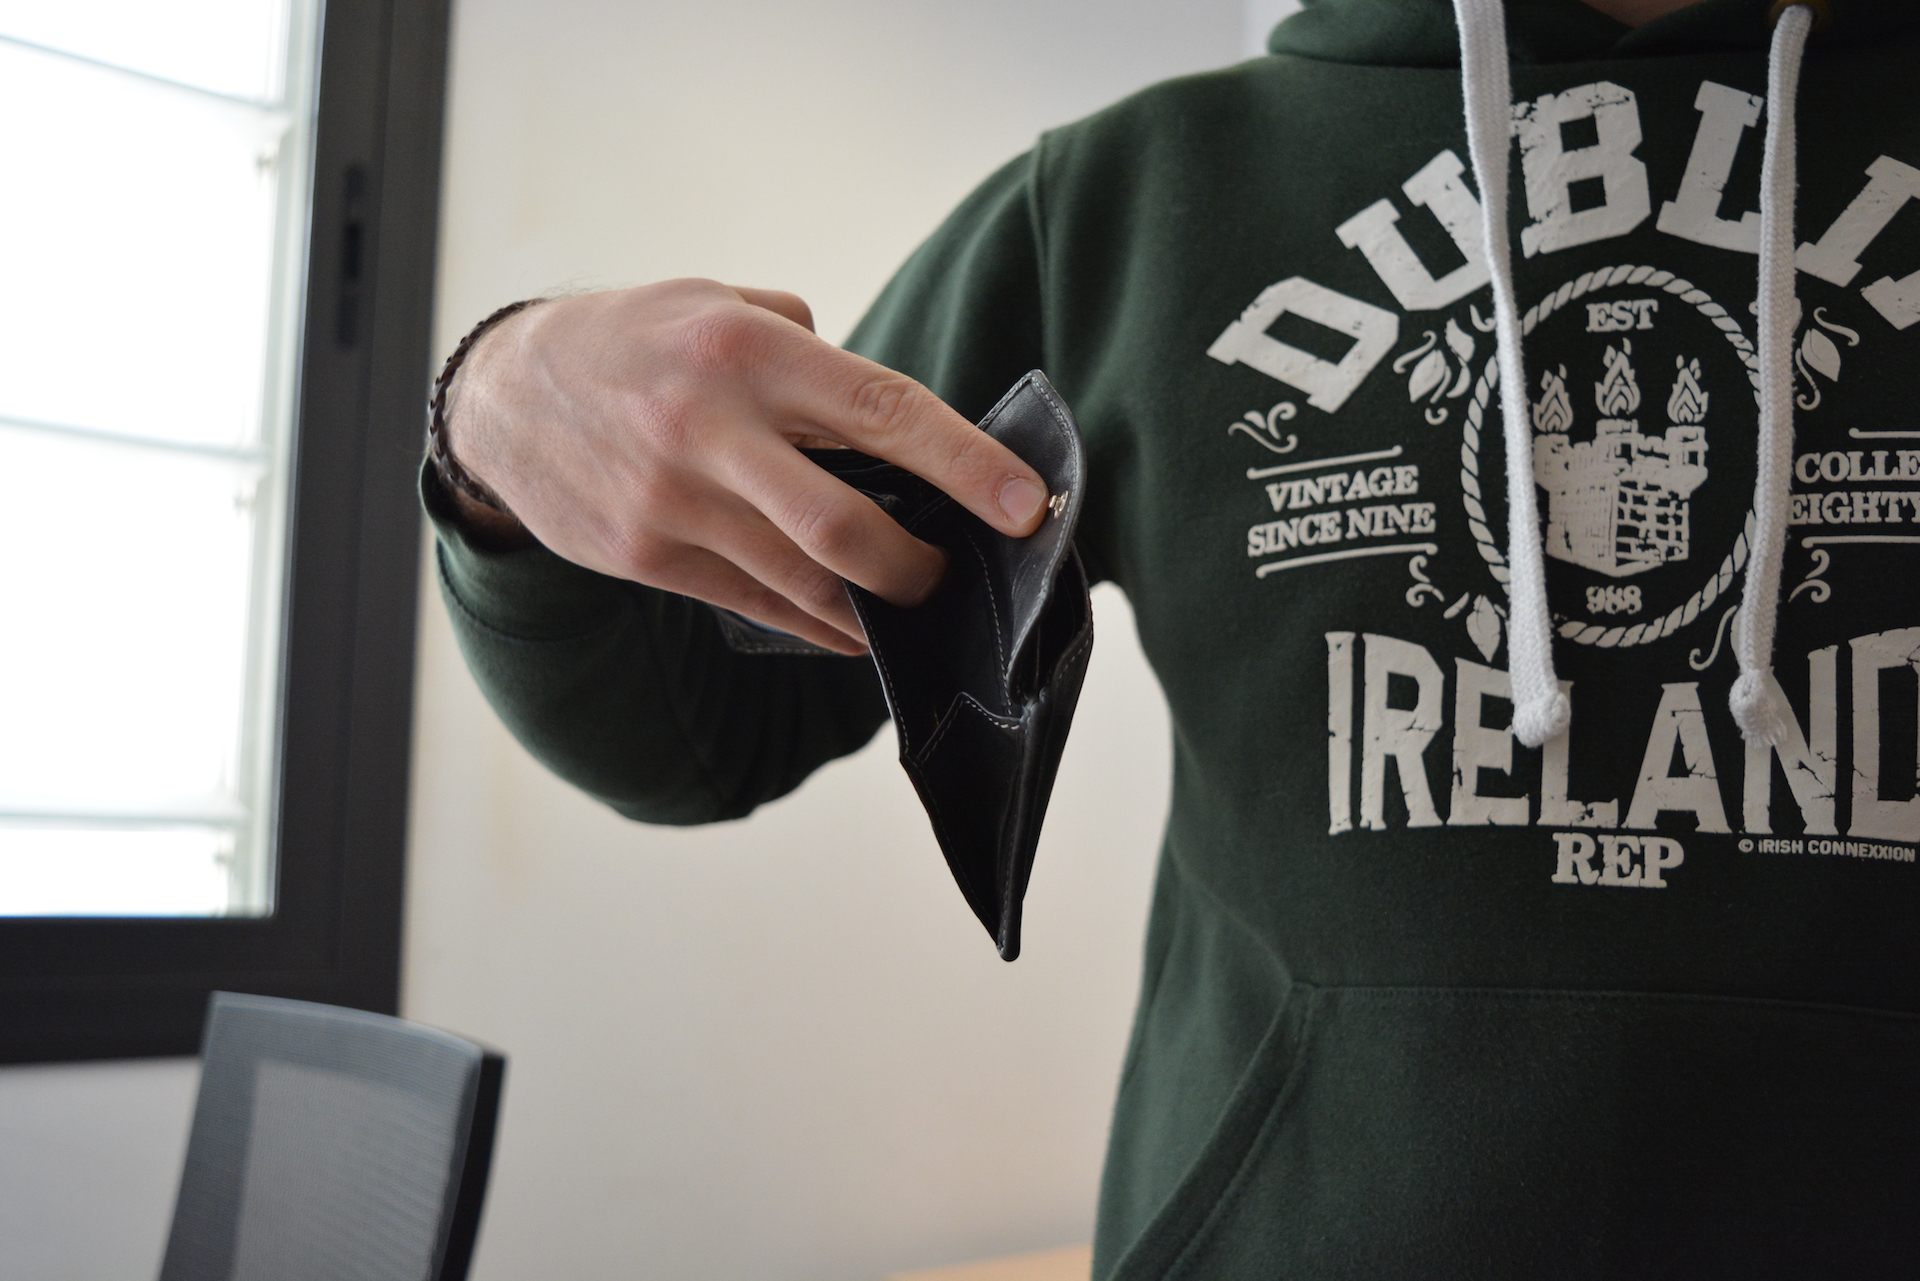monedero: (705, 362, 1101, 964)
